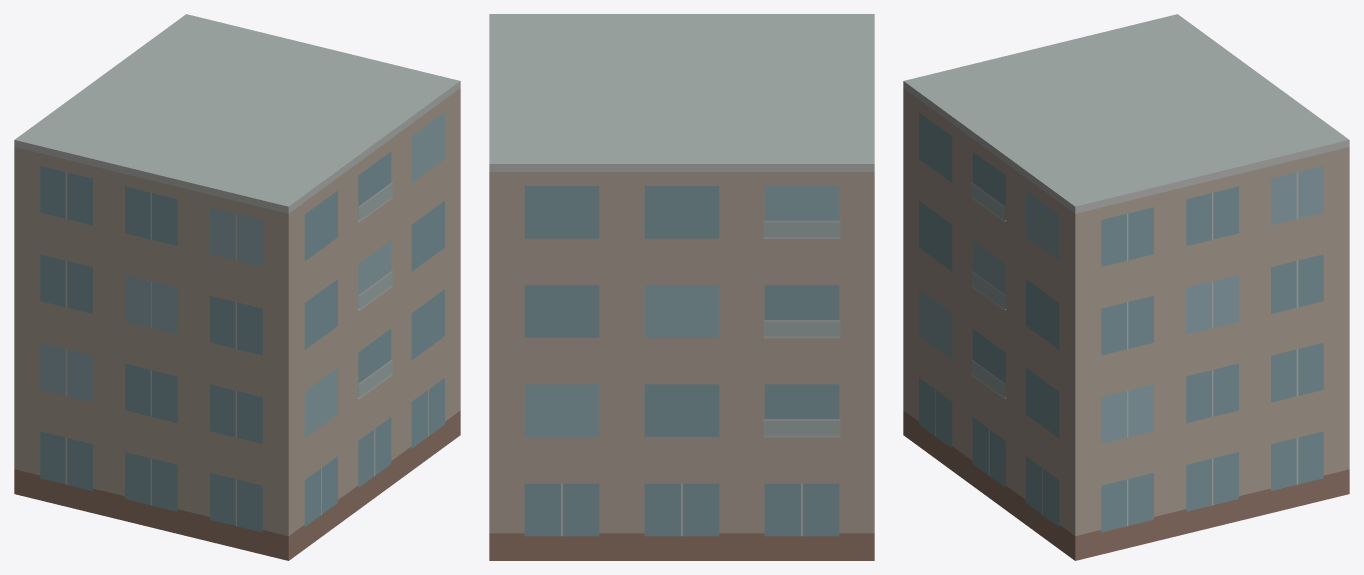
The model's file is residential-6c367147-c9df-4f4b-a8f8-a6db67ac9703.glb.
The picture shows the model from 3 angles, left to right: view 1: azimuth 30°, elevation 25°; view 2: azimuth 150°, elevation 25°; view 3: azimuth 270°, elevation 25°; orthographic projection. The views are drawn at different scales.
Visible parts, largest first — view 1: residential-6c367147-c9df-4f4b-a8f8-a6db67ac9703.tmp; view 2: residential-6c367147-c9df-4f4b-a8f8-a6db67ac9703.tmp; view 3: residential-6c367147-c9df-4f4b-a8f8-a6db67ac9703.tmp.
Boxes of the visible parts, box(x1,y1,x2,y2) form: residential-6c367147-c9df-4f4b-a8f8-a6db67ac9703.tmp: box(14, 14, 460, 560); residential-6c367147-c9df-4f4b-a8f8-a6db67ac9703.tmp: box(489, 14, 874, 560); residential-6c367147-c9df-4f4b-a8f8-a6db67ac9703.tmp: box(903, 14, 1349, 560).
Bounding box in the file's own units: 14.25 × 12.2 × 13.94.
